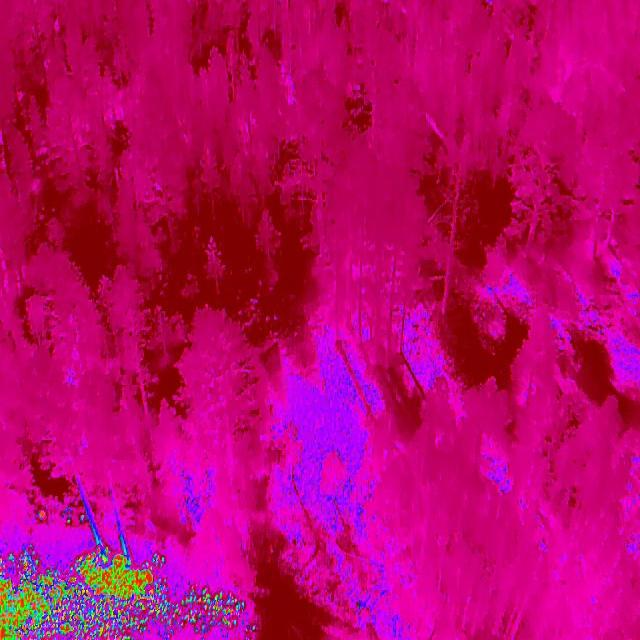fire: (0, 547, 259, 640), (34, 508, 88, 532)
